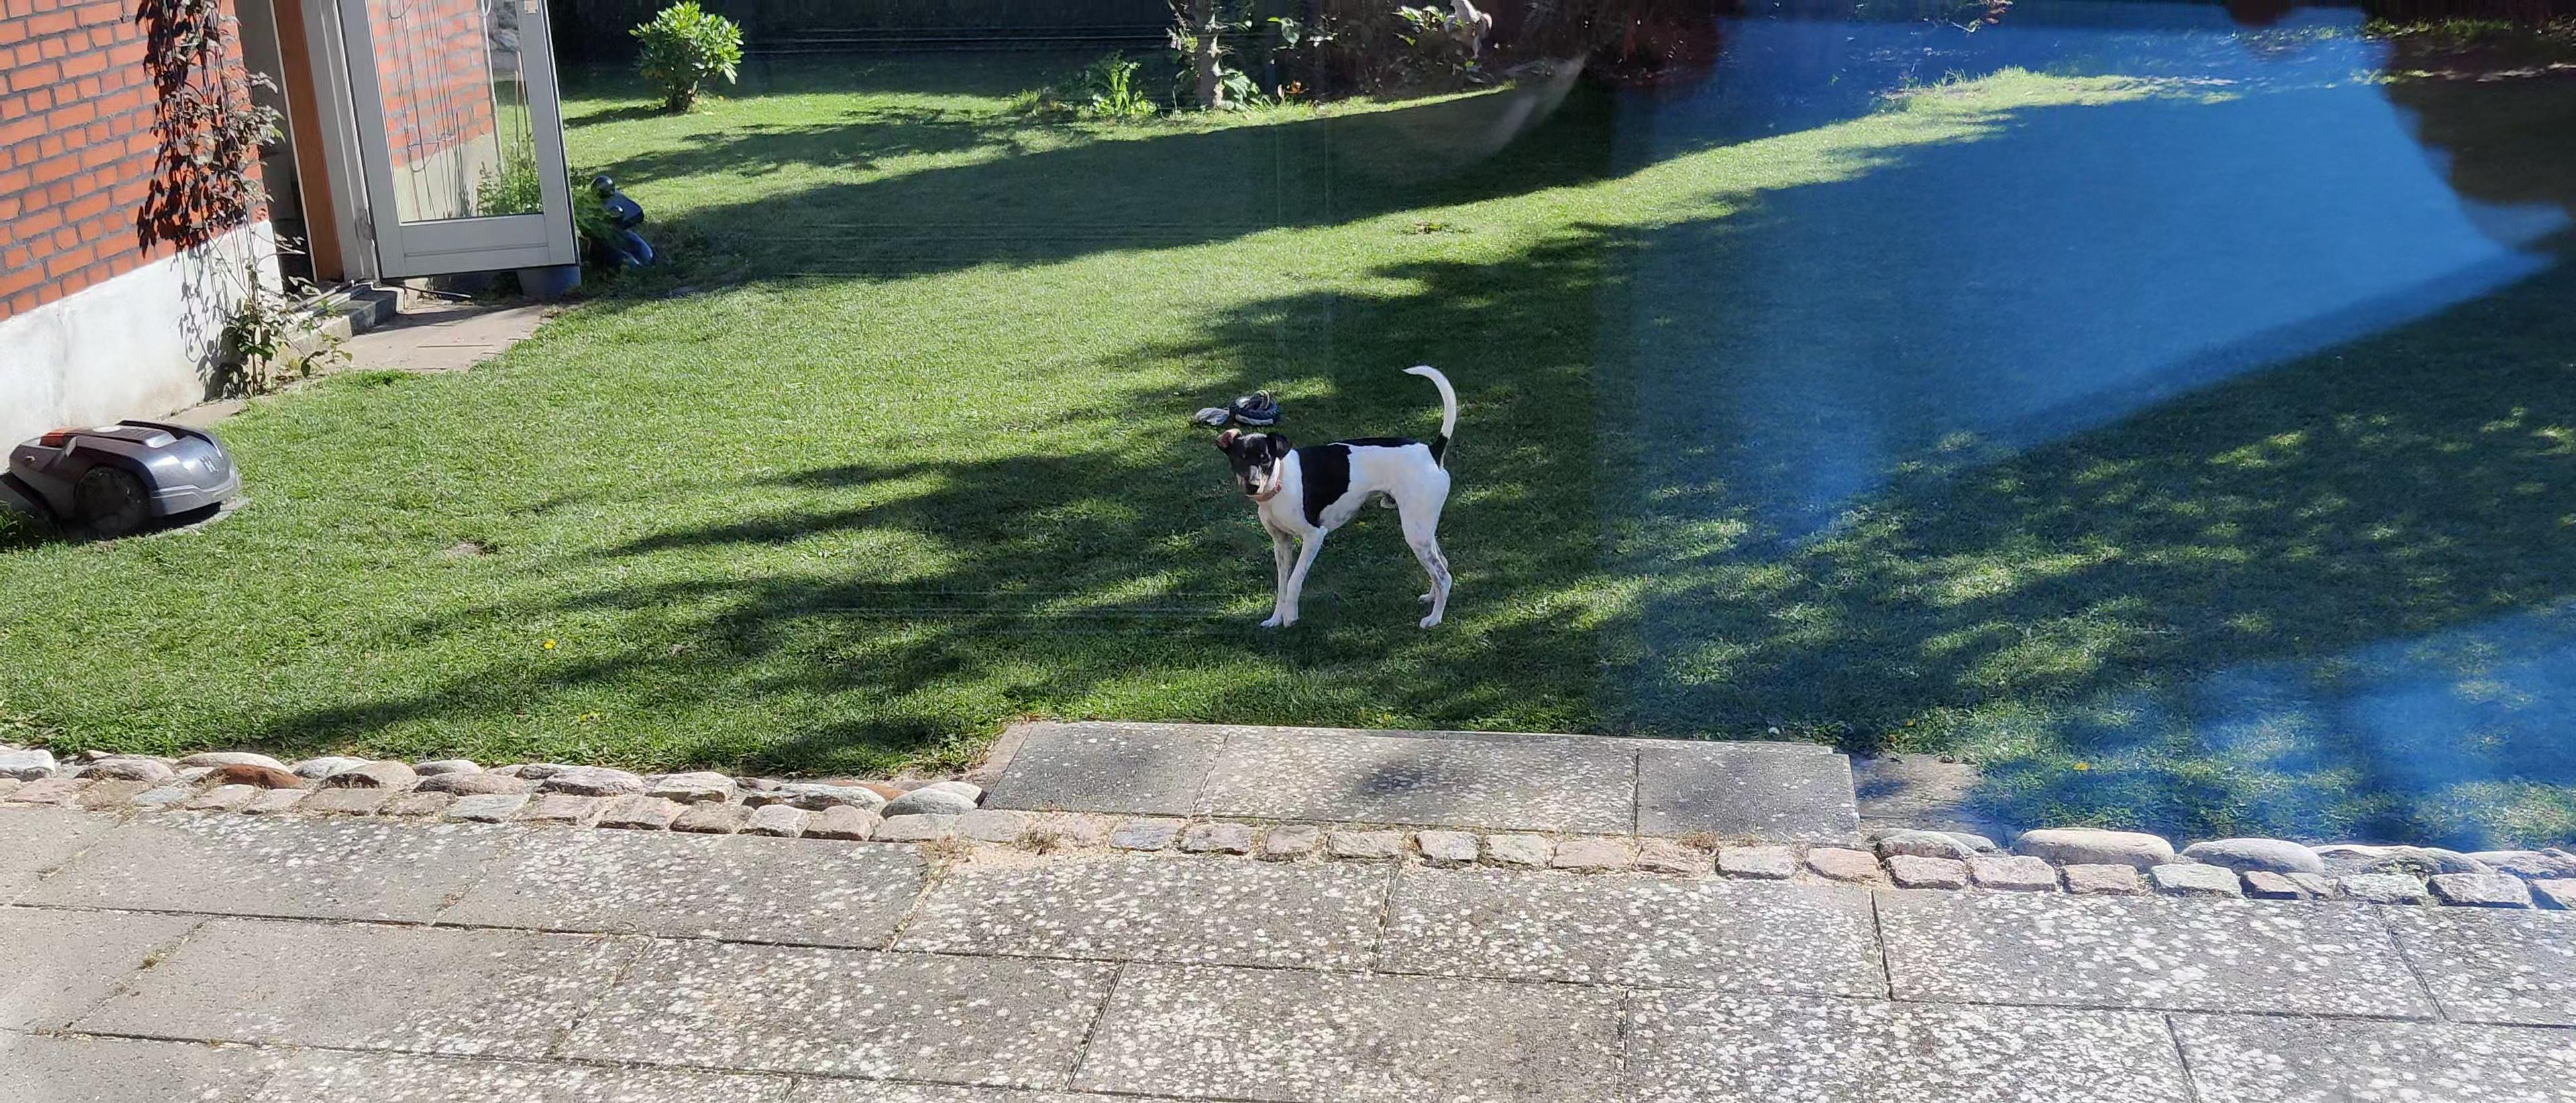Dog: (1211, 358, 1460, 635)
